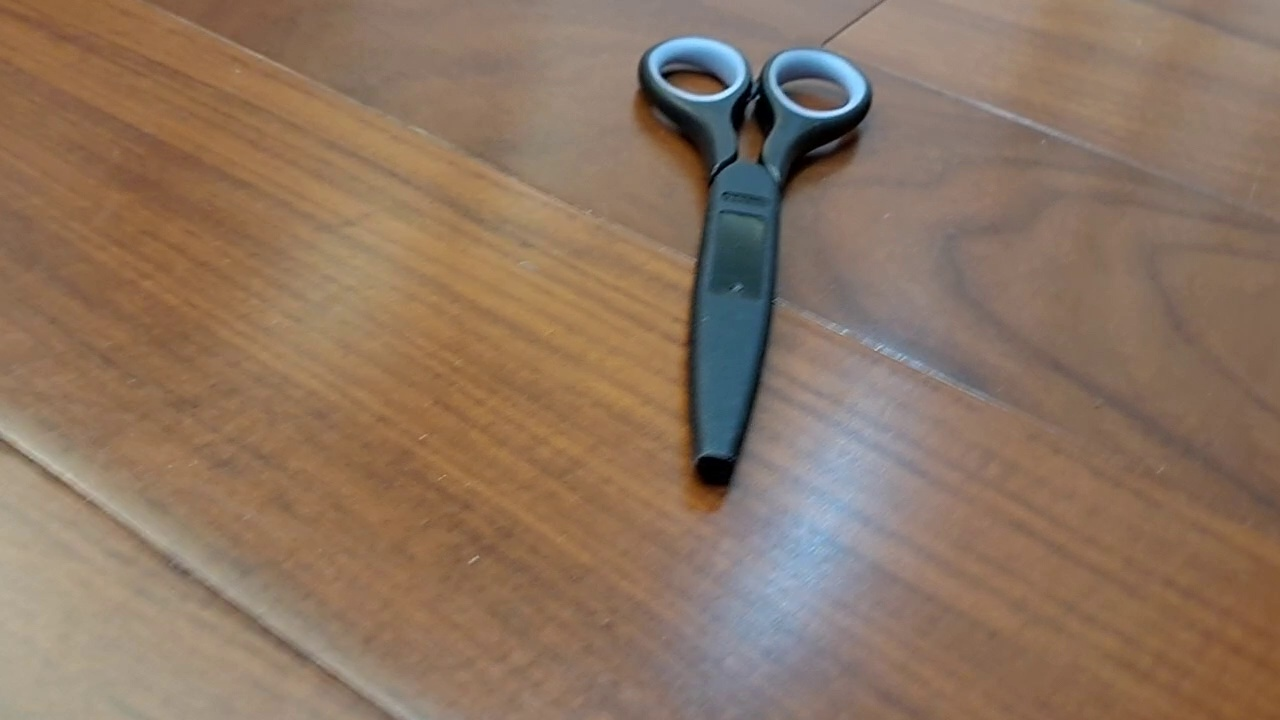scissors: (636, 34, 873, 487)
